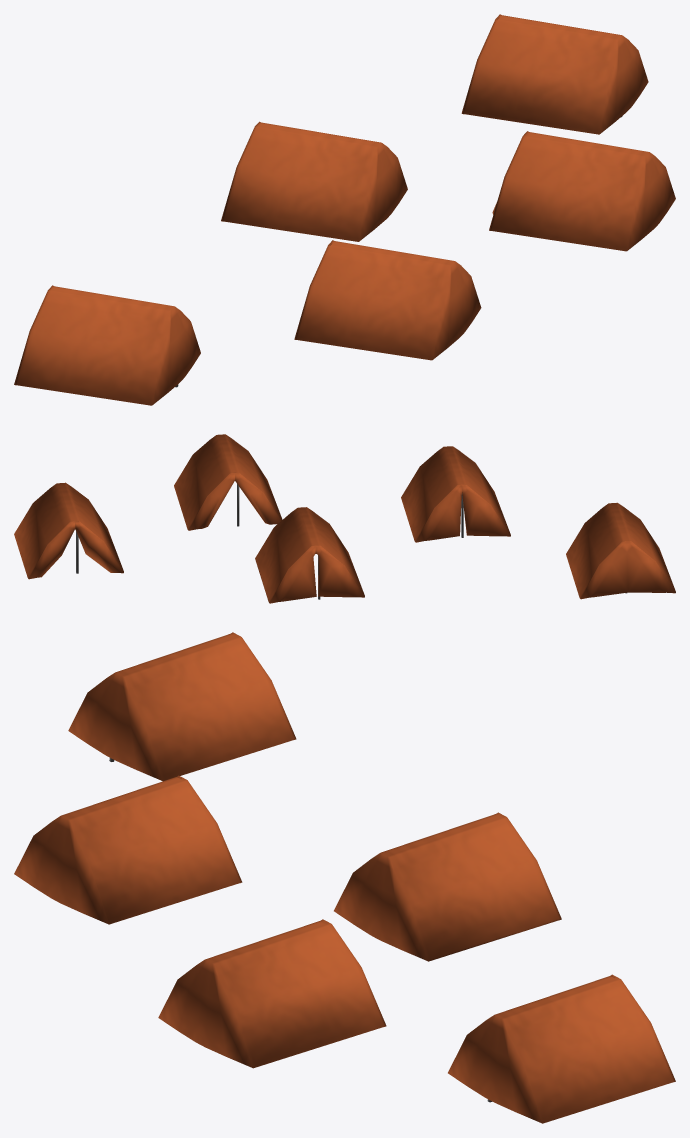
The model's file is Tents_Orange.obj.
The picture shows the model from 3 angles, top to bottom: view 1: azimuth 30°, elevation 25°; view 2: azimuth 150°, elevation 25°; view 3: azimuth 270°, elevation 25°; orthographic projection. The views are drawn at different scales.
Visible parts, largest first — view 1: Tent_Base.004_Material, Tent_Base.001_Material, Tent_Base.003_Material, Tent_Base_Material, Tent_Base.002_Material; view 2: Tent_Base.004_Material, Tent_Base.002_Material, Tent_Base.003_Material, Tent_Base_Material, Tent_Base.001_Material; view 3: Tent_Base.001_Material, Tent_Base_Material, Tent_Base.003_Material, Tent_Base.002_Material, Tent_Base.004_Material.
Boxes of the visible parts, left/top/right/bottom form: Tent_Base.004_Material: left=14, top=285, right=200, bottom=405; Tent_Base.001_Material: left=489, top=131, right=675, bottom=251; Tent_Base.003_Material: left=294, top=240, right=481, bottom=360; Tent_Base_Material: left=461, top=14, right=648, bottom=134; Tent_Base.002_Material: left=221, top=121, right=407, bottom=241; Tent_Base.004_Material: left=566, top=502, right=675, bottom=599; Tent_Base.002_Material: left=255, top=507, right=364, bottom=603; Tent_Base.003_Material: left=401, top=446, right=510, bottom=542; Tent_Base_Material: left=14, top=482, right=123, bottom=579; Tent_Base.001_Material: left=174, top=434, right=282, bottom=530; Tent_Base.001_Material: left=158, top=919, right=386, bottom=1068; Tent_Base_Material: left=448, top=974, right=675, bottom=1123; Tent_Base.003_Material: left=14, top=775, right=242, bottom=924; Tent_Base.002_Material: left=334, top=812, right=561, bottom=961; Tent_Base.004_Material: left=68, top=632, right=296, bottom=781.
Bounding box in the file's own units: 13.56 × 1.26 × 8.67.
